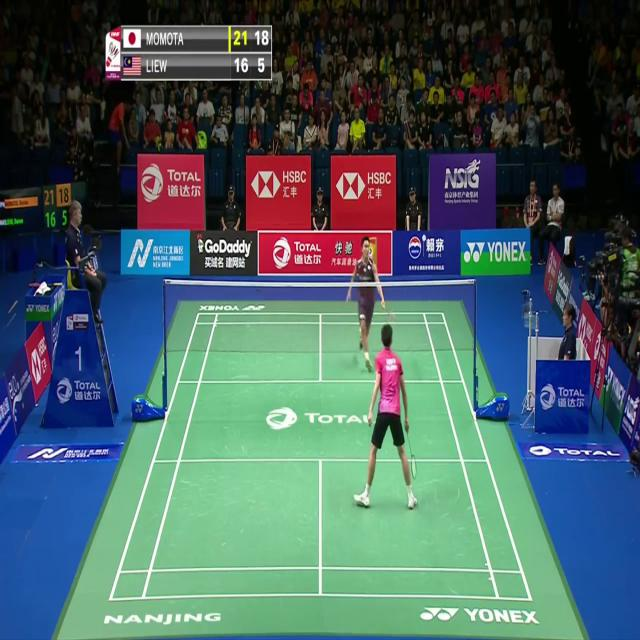Shuttlecock: (420, 232, 427, 243)
